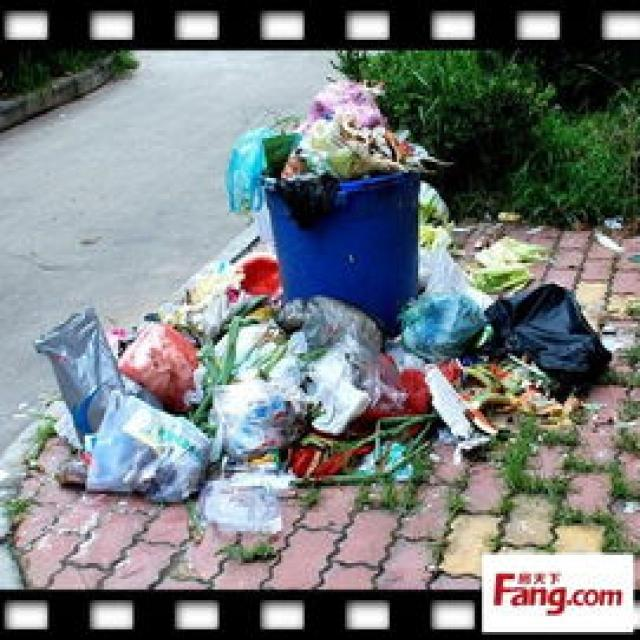garbage: (31, 178, 609, 534)
overflow: (224, 72, 446, 332)
